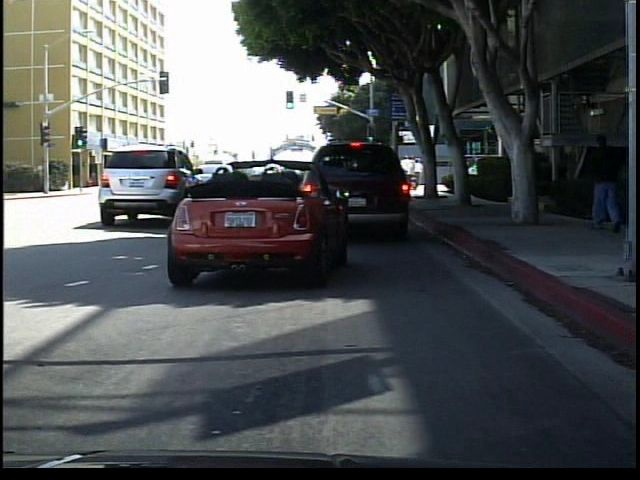person: (583, 130, 625, 236), (513, 143, 544, 224)
